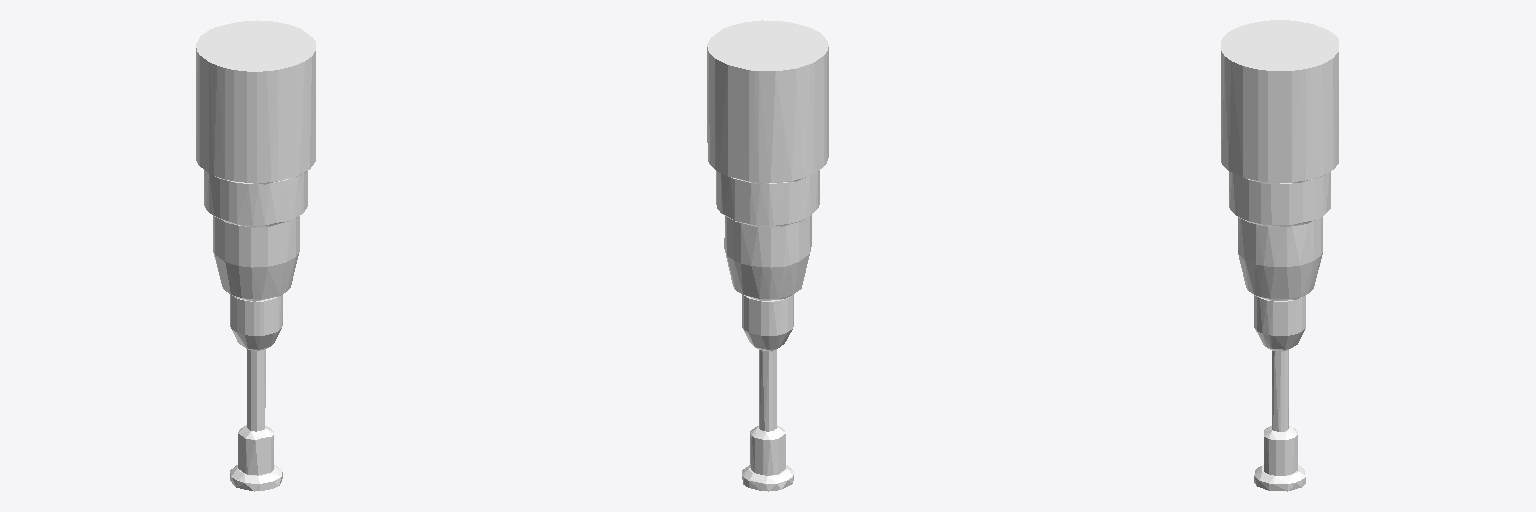
robot.urdf — s0_fi2_fu1_b0_l0_f0.urdf:
<?xml version="1.0" ?>
<robot name="s0_fi2_fu1_b0_l0_f0.urdf">
  <link name="baseLink">
    <contact>
      <lateral_friction value="1.0"/>
      <spinning_friction value="0.001"/>
      <rolling_friction value="0.001"/>
      <contact_cfm value="0.0"/>
      <contact_erp value="1.0"/>
    </contact>
    <inertial>
      <origin rpy="0 0 0" xyz="0.0 0 0.0"/>
       <mass value=".001"/>
       <inertia ixx="1" ixy="0" ixz="0" iyy="1" iyz="0" izz="1"/>
    </inertial>
    <visual>
      <origin rpy="0 0 0" xyz="0 0 0"/>
      <geometry>
				<mesh filename="s0_fi2_fu1_b0_l0_f0_vhacd.obj" scale="1.0 1.0 1.0"/>
      </geometry>
       <material name="white">
        <color rgba="1 1 1 1"/>
      </material>
    </visual>
    <collision>
      <origin rpy="0 0 0" xyz="0 0 0"/>
      <geometry>
	 	<mesh filename="s0_fi2_fu1_b0_l0_f0_vhacd.obj" scale="1.0 1.0 1.0"/>
      </geometry>
    </collision>
  </link>
</robot>

--- Facts derived from the render (not from the file) ---
The picture shows the robot from 3 angles, left to right: view 1: azimuth 30°, elevation 25°; view 2: azimuth 150°, elevation 25°; view 3: azimuth 270°, elevation 25°; orthographic projection.
Robot: s0_fi2_fu1_b0_l0_f0.urdf — 1 links, 0 joints (none); root link baseLink; default pose: every joint at zero.
Links seen in each view (by area): view 1: baseLink; view 2: baseLink; view 3: baseLink.
Link boxes in pixels (x1,y1,x2,y2): baseLink: (196, 20, 315, 491); baseLink: (707, 20, 828, 491); baseLink: (1221, 20, 1338, 491).
Bounding box of the posed robot: 0.0375 × 0.0375 × 0.1512 m (x, y, z).
1 mesh visuals loaded from 1 distinct referenced files (1 OBJ).